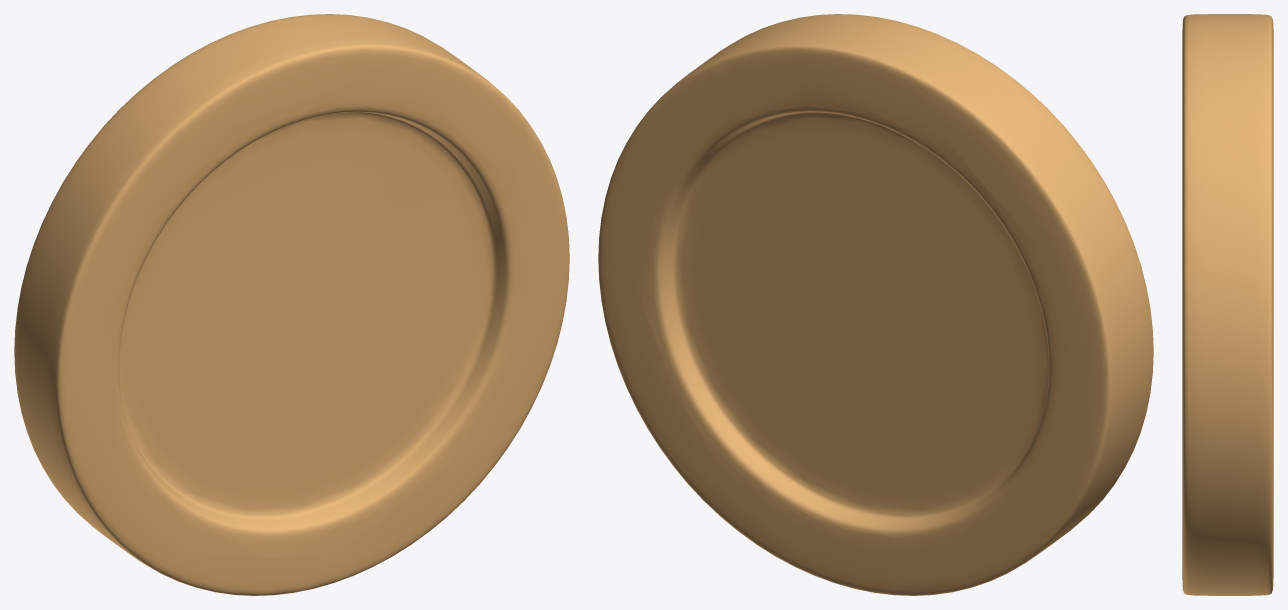
The model's file is gold_money_by_iayseozdemir.glb.
3 views of the same model, side by side, from view 1: azimuth 30°, elevation 25°; view 2: azimuth 150°, elevation 25°; view 3: azimuth 270°, elevation 25° (orthographic). The views are drawn at different scales.
Visible parts, largest first — view 1: Gold Money by iayseozdemir; view 2: Gold Money by iayseozdemir; view 3: Gold Money by iayseozdemir.
Boxes of the visible parts, bbox=[...] form: Gold Money by iayseozdemir: bbox=[14, 14, 569, 595]; Gold Money by iayseozdemir: bbox=[598, 14, 1153, 595]; Gold Money by iayseozdemir: bbox=[1182, 14, 1273, 595].
Size of the model in its own units: 0.0104 by 0.0104 by 0.00163.
